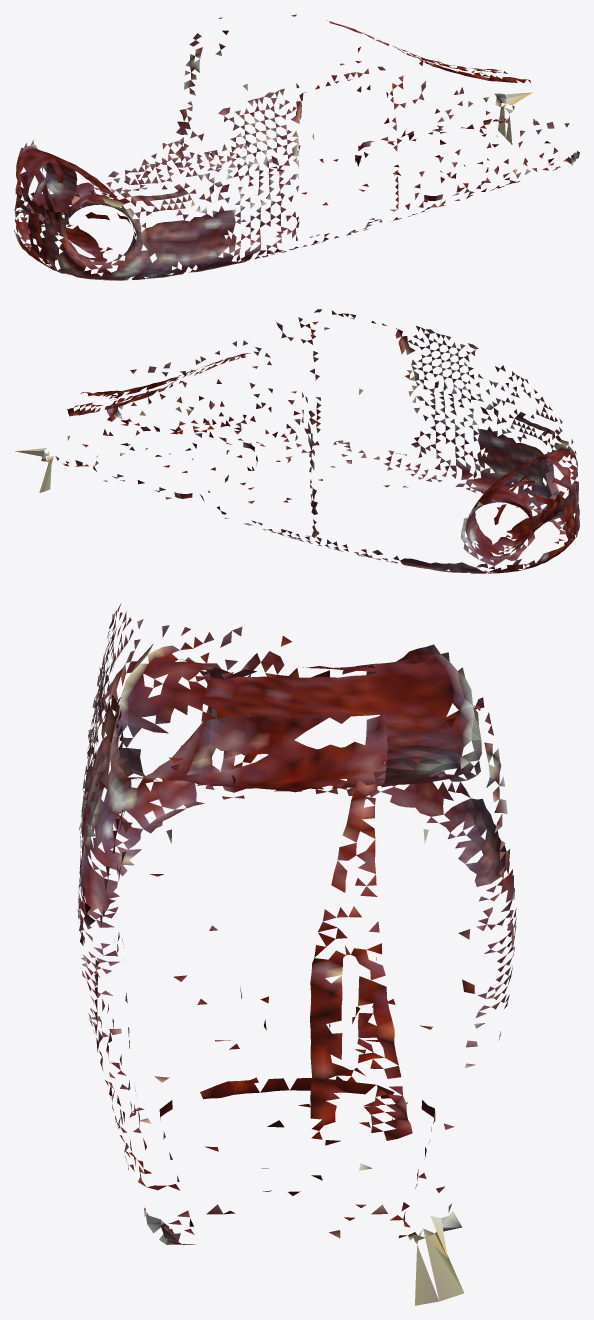
The model's file is whistle_final1200.obj.
3 views of the same model, one above another, from view 1: azimuth 30°, elevation 25°; view 2: azimuth 150°, elevation 25°; view 3: azimuth 270°, elevation 25° (orthographic). The views are drawn at different scales.
Size of the model in its own units: 2.01 by 0.6693 by 0.7413.
